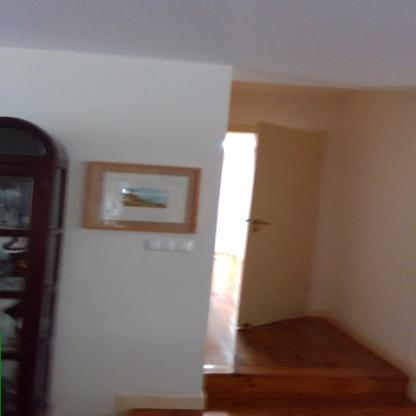semi: (218, 119, 326, 337)
